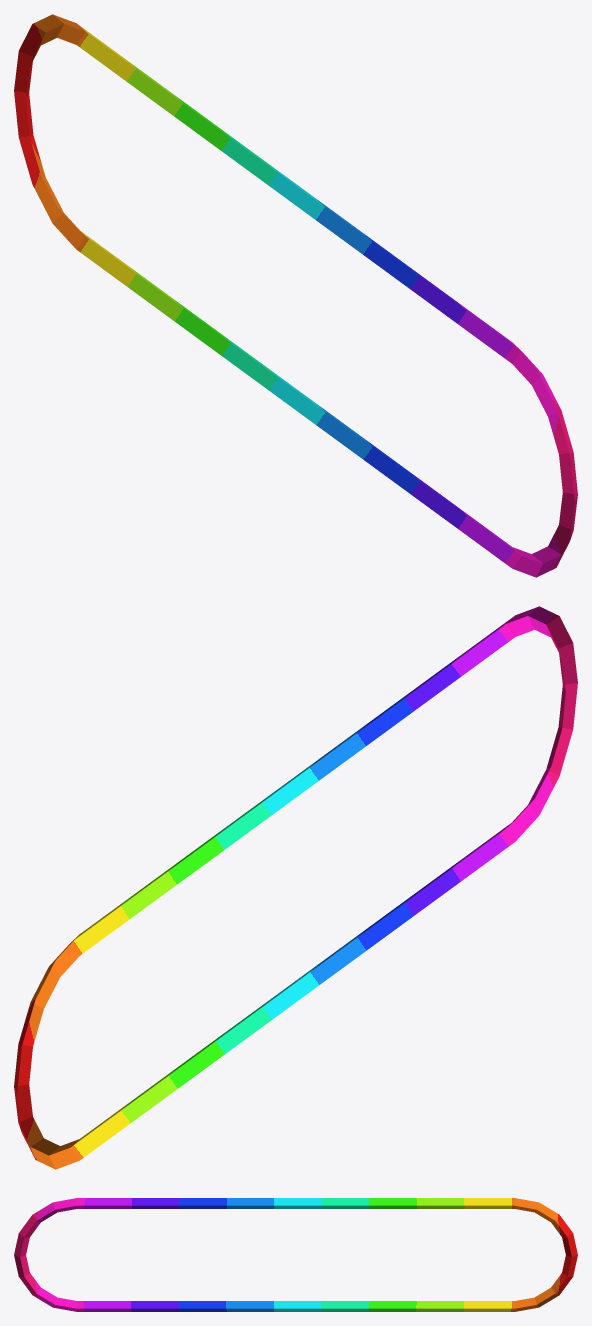
File: mode_survival.obj
3 renders of one model, top to bottom at view 1: azimuth 30°, elevation 25°; view 2: azimuth 150°, elevation 25°; view 3: azimuth 270°, elevation 25°, orthographic. The views are drawn at different scales.
Parts seen in each view (by area): view 1: mode_survival_Circle.004; view 2: mode_survival_Circle.004; view 3: mode_survival_Circle.004.
Part boxes in pixels (left/top/right/bottom): mode_survival_Circle.004: left=14, top=14, right=577, bottom=577; mode_survival_Circle.004: left=14, top=606, right=577, bottom=1169; mode_survival_Circle.004: left=14, top=1198, right=577, bottom=1311.
Size of the model in its own units: 0.7948 by 18.73 by 84.09.
Materials: 1 (1 with a texture image).
